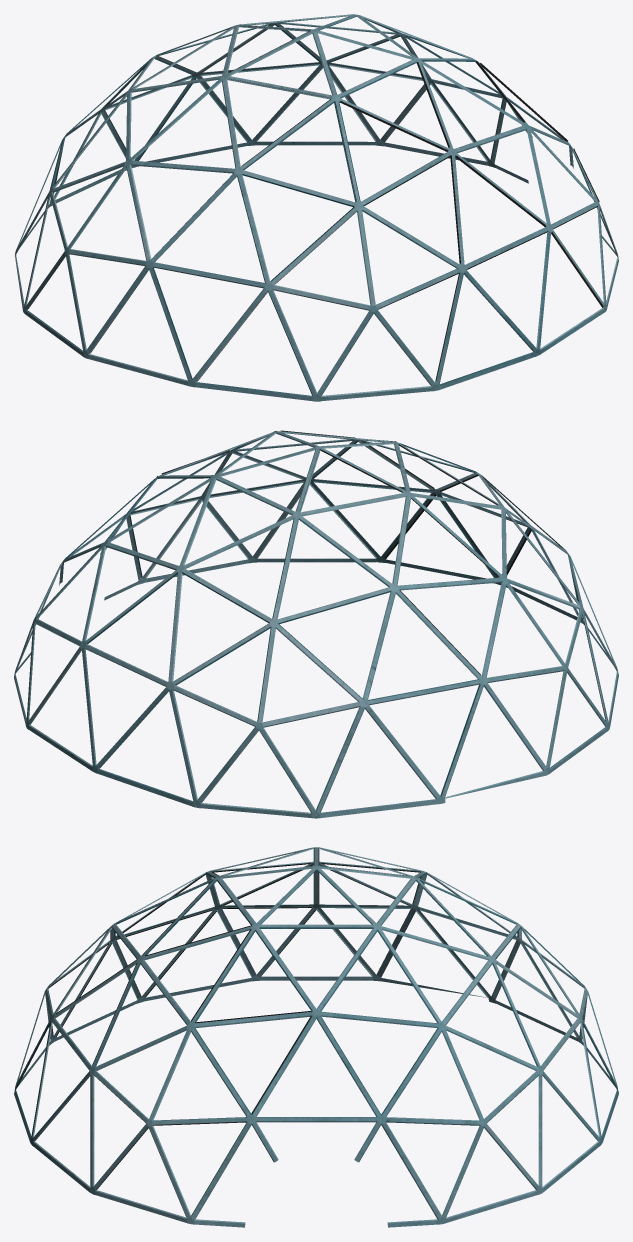
Rendered from domo.obj.
The picture shows the model from 3 angles, top to bottom: view 1: azimuth 30°, elevation 25°; view 2: azimuth 150°, elevation 25°; view 3: azimuth 270°, elevation 25°; orthographic projection.
Visible parts, largest first — view 1: polySurface49; view 2: polySurface49; view 3: polySurface49.
Boxes of the visible parts, x1,y1,x2,y2 form: polySurface49: [15, 14, 618, 401]; polySurface49: [14, 430, 618, 818]; polySurface49: [14, 847, 618, 1227].
Size of the model in its own units: 13.94 by 6.31 by 14.39.
Materials: 2 (2 with a texture image).
